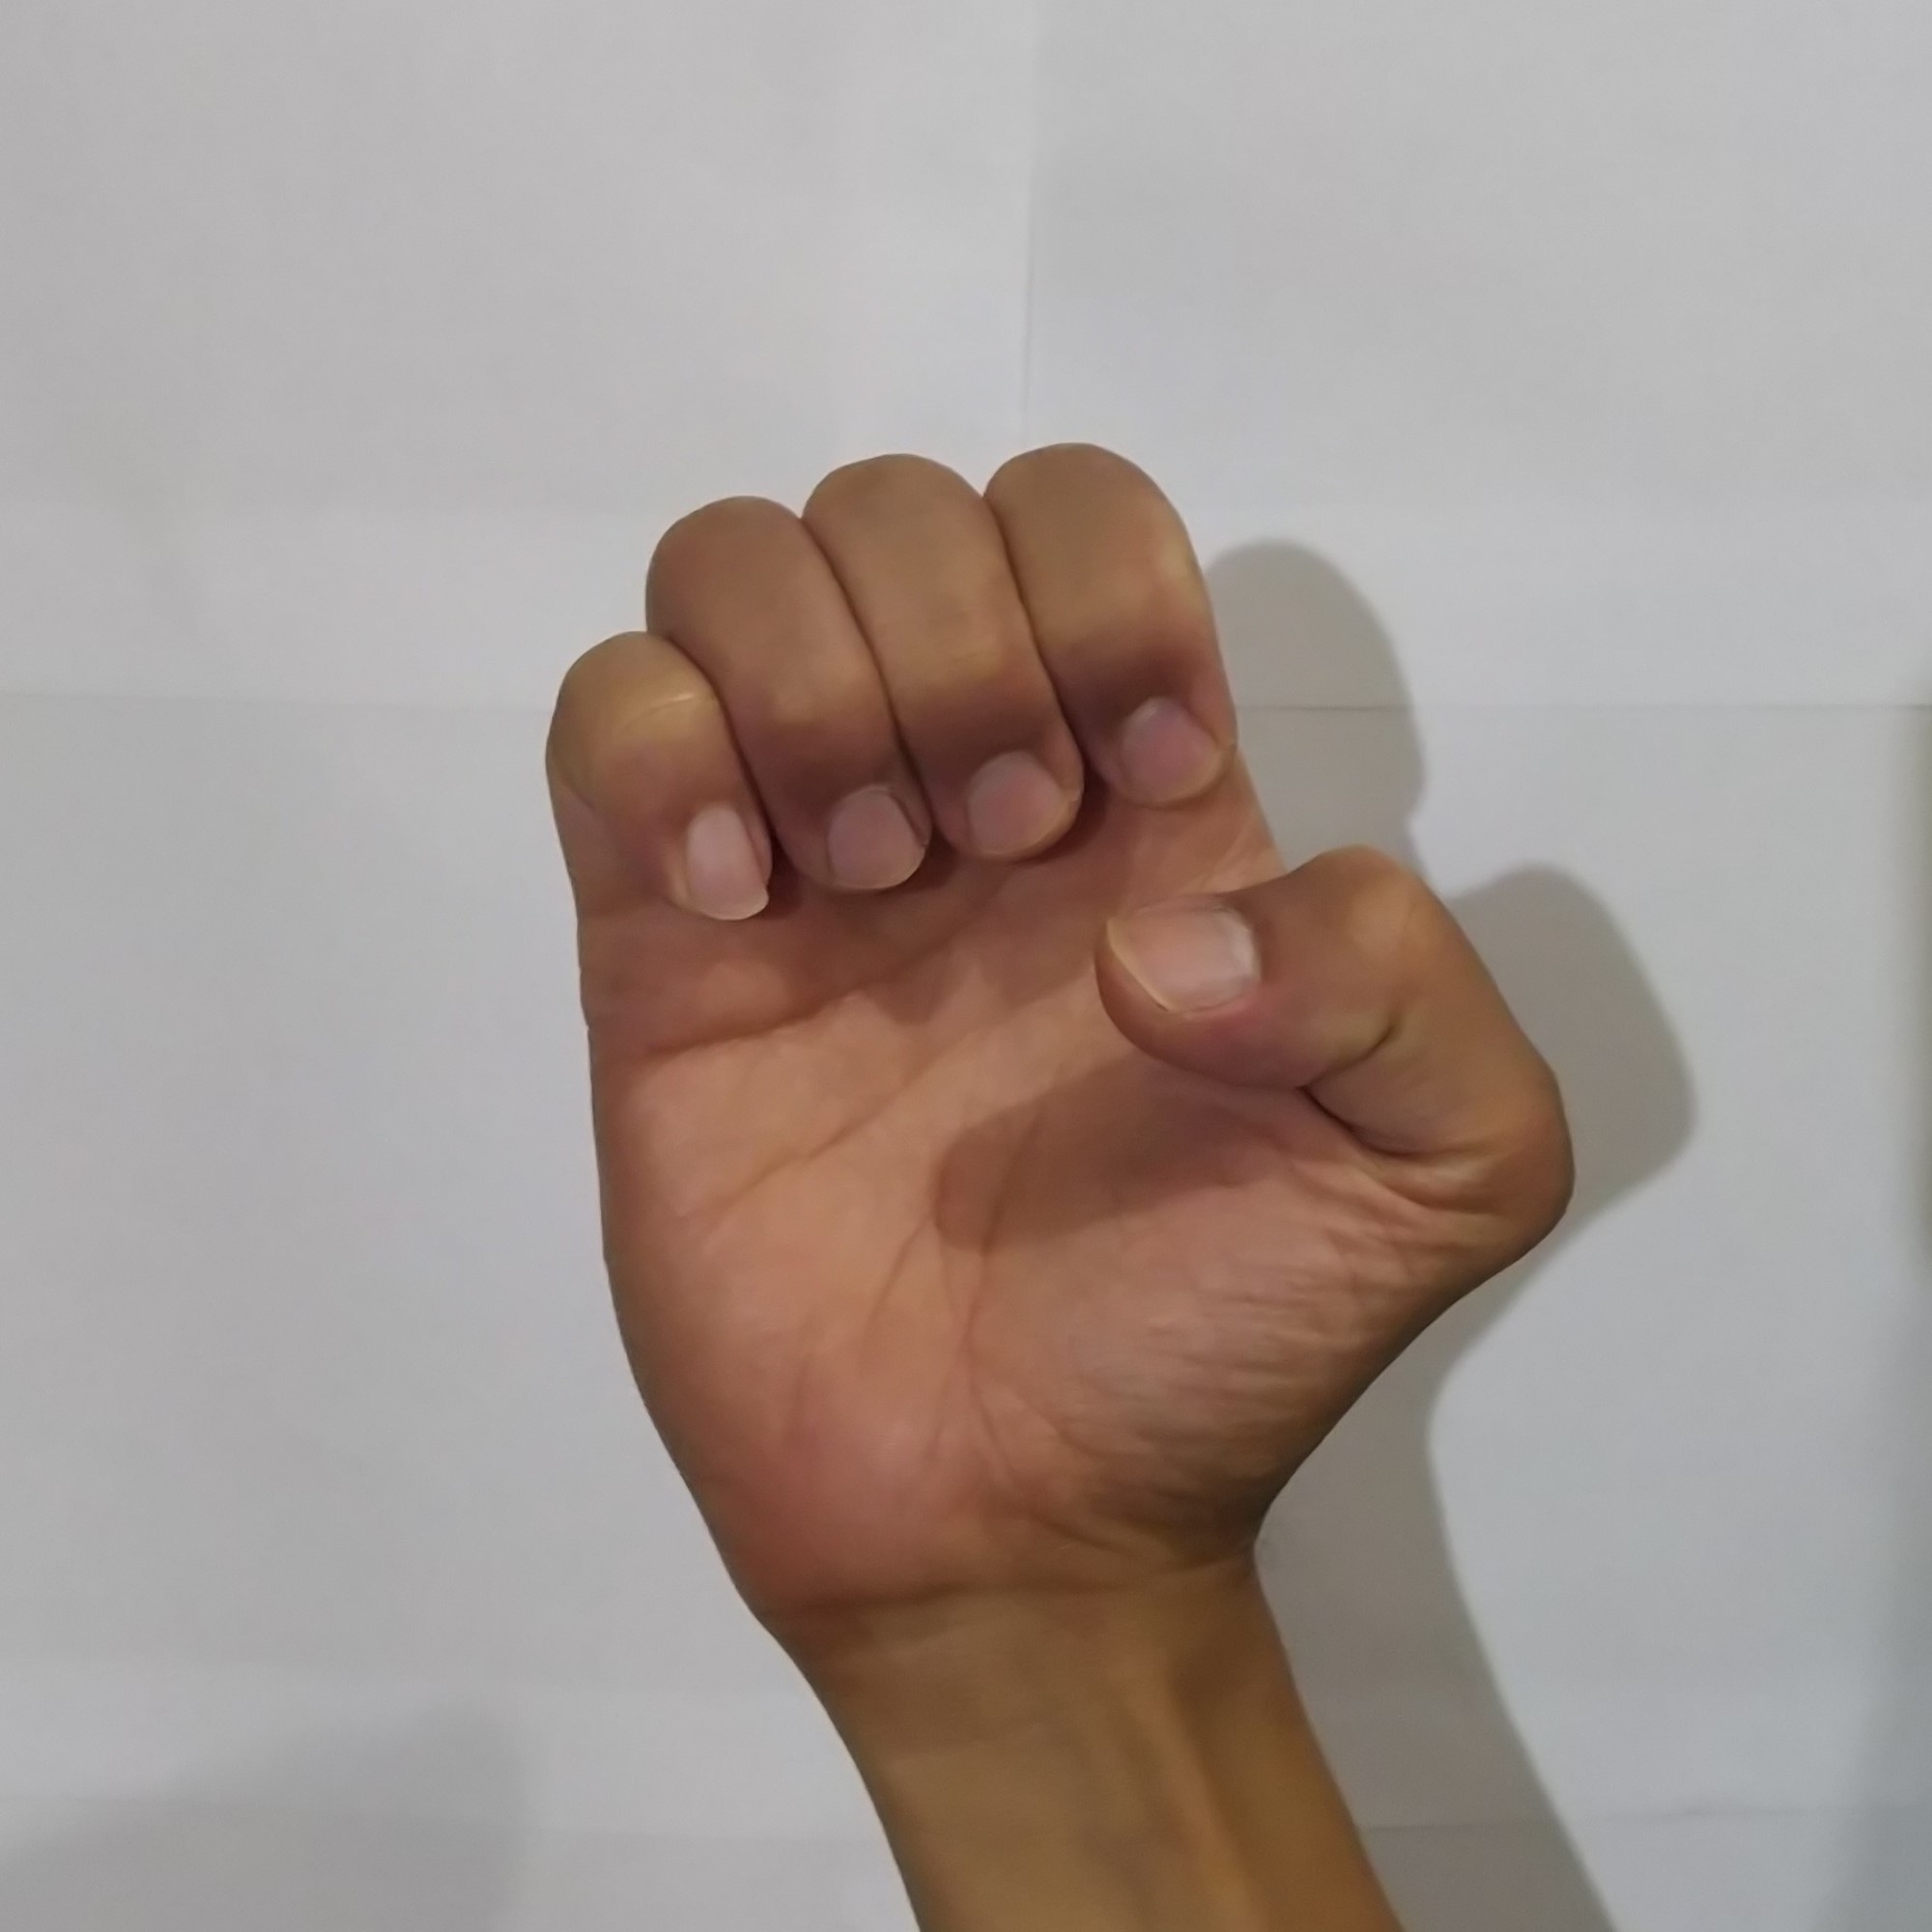E: (527, 426, 1591, 1553)
